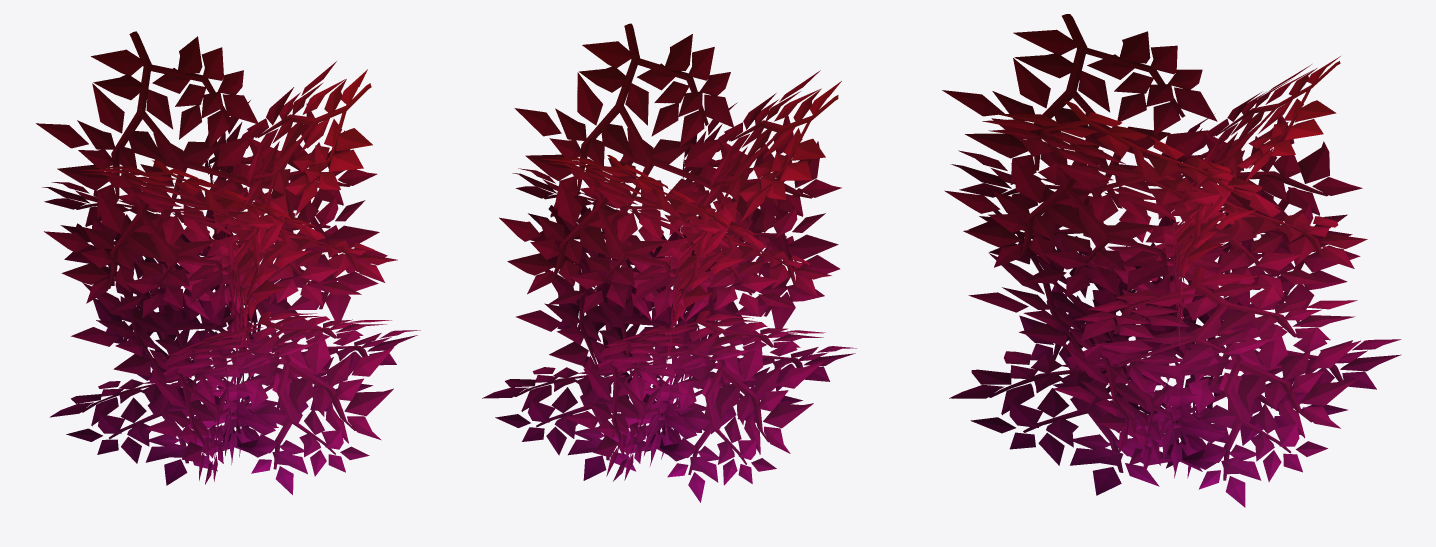
Rendered from synty-plant-bush-leaves-02.gltf.
The picture shows the model from 3 angles, left to right: view 1: azimuth 30°, elevation 25°; view 2: azimuth 150°, elevation 25°; view 3: azimuth 270°, elevation 25°; orthographic projection. The views are drawn at different scales.
Visible parts, largest first — view 1: SM_Plant_Bush_Leaves_02; view 2: SM_Plant_Bush_Leaves_02; view 3: SM_Plant_Bush_Leaves_02.
Part boxes in pixels (left/top/right/bottom): SM_Plant_Bush_Leaves_02: left=36, top=31, right=420, bottom=494; SM_Plant_Bush_Leaves_02: left=482, top=23, right=856, bottom=502; SM_Plant_Bush_Leaves_02: left=942, top=14, right=1401, bottom=507.
Size of the model in its own units: 0.5343 by 0.6049 by 0.6123.
1 material, 1 textured.
